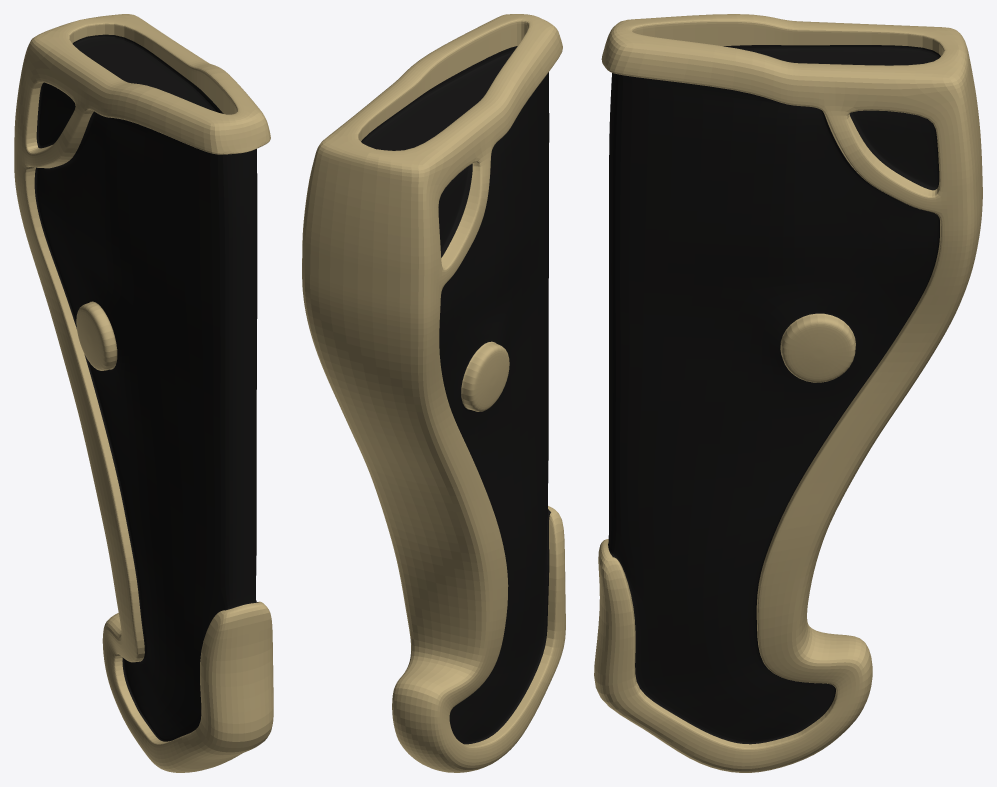
The model's file is Hwaljip.fbx.
The picture shows the model from 3 angles, left to right: view 1: azimuth 30°, elevation 25°; view 2: azimuth 150°, elevation 25°; view 3: azimuth 270°, elevation 25°; orthographic projection. The views are drawn at different scales.
Parts seen in each view (by area): view 1: Hwaljip; view 2: Hwaljip; view 3: Hwaljip.
Boxes of the visible parts, x1,y1,x2,y2 form: Hwaljip: (14,14,273,772); Hwaljip: (302,14,565,772); Hwaljip: (594,14,982,772).
Bounding box in the file's own units: 389 × 1967 × 940.
